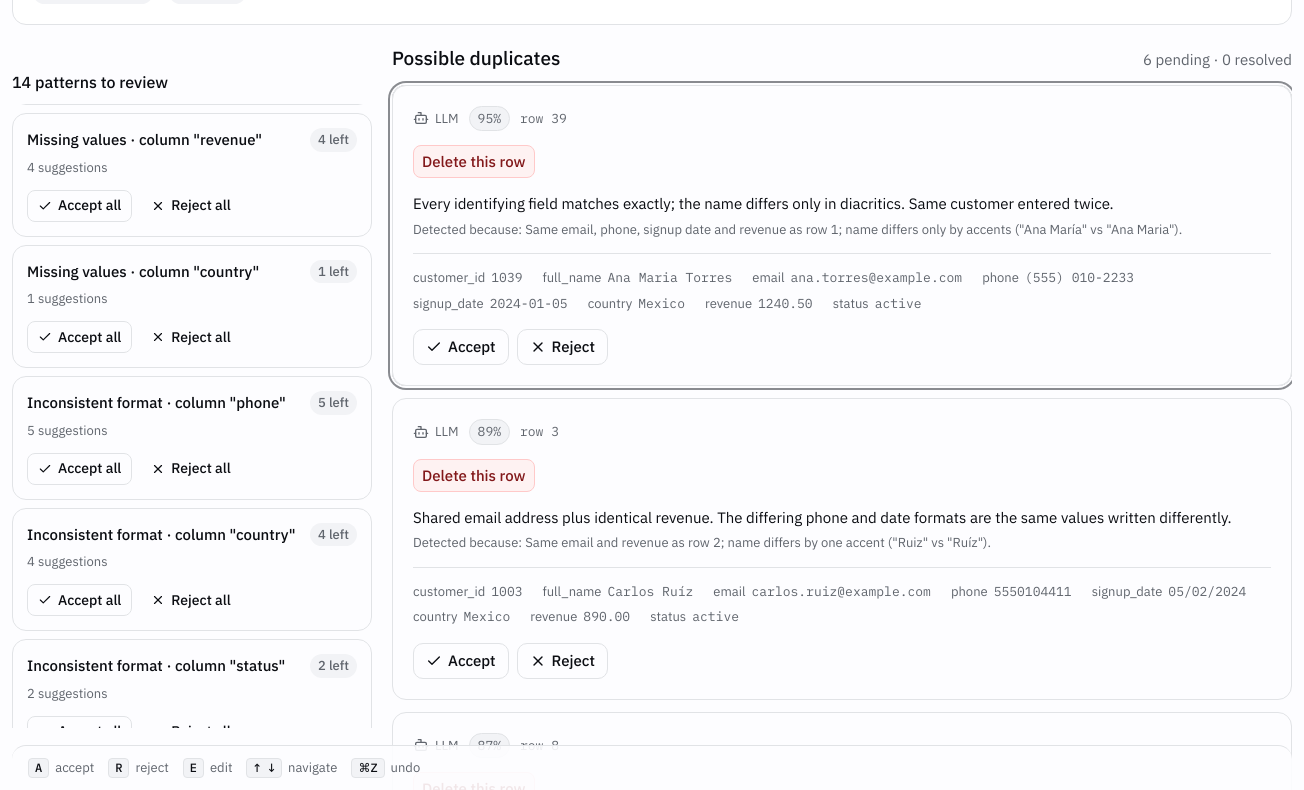
Test: ReviewWorkspace › lets the reviewer override a proposed value inline
(page scrolled)
Click the button "Inconsistent format · column \"phone\" 5 left 5 suggestions".
click(156, 402)  # box x1=27 y1=391 x2=357 y2=440
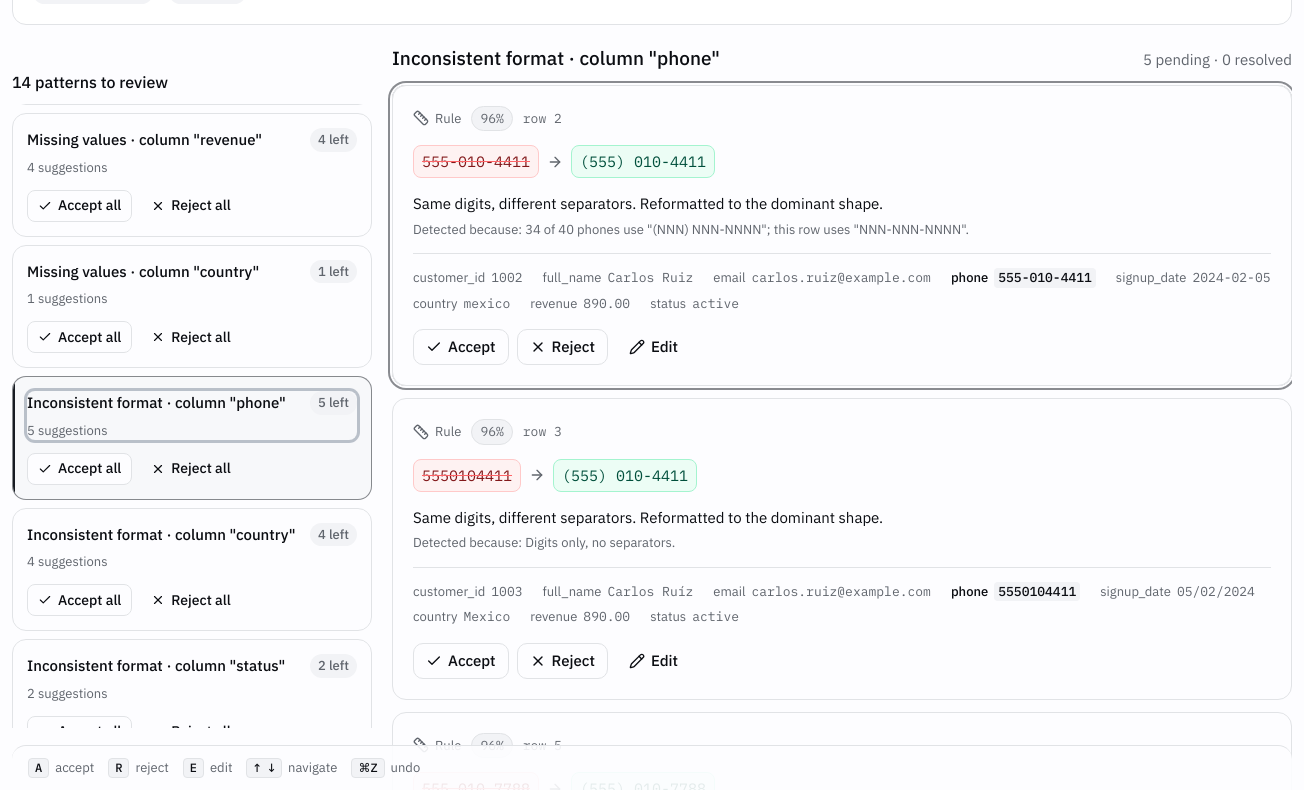
Type keys "e"
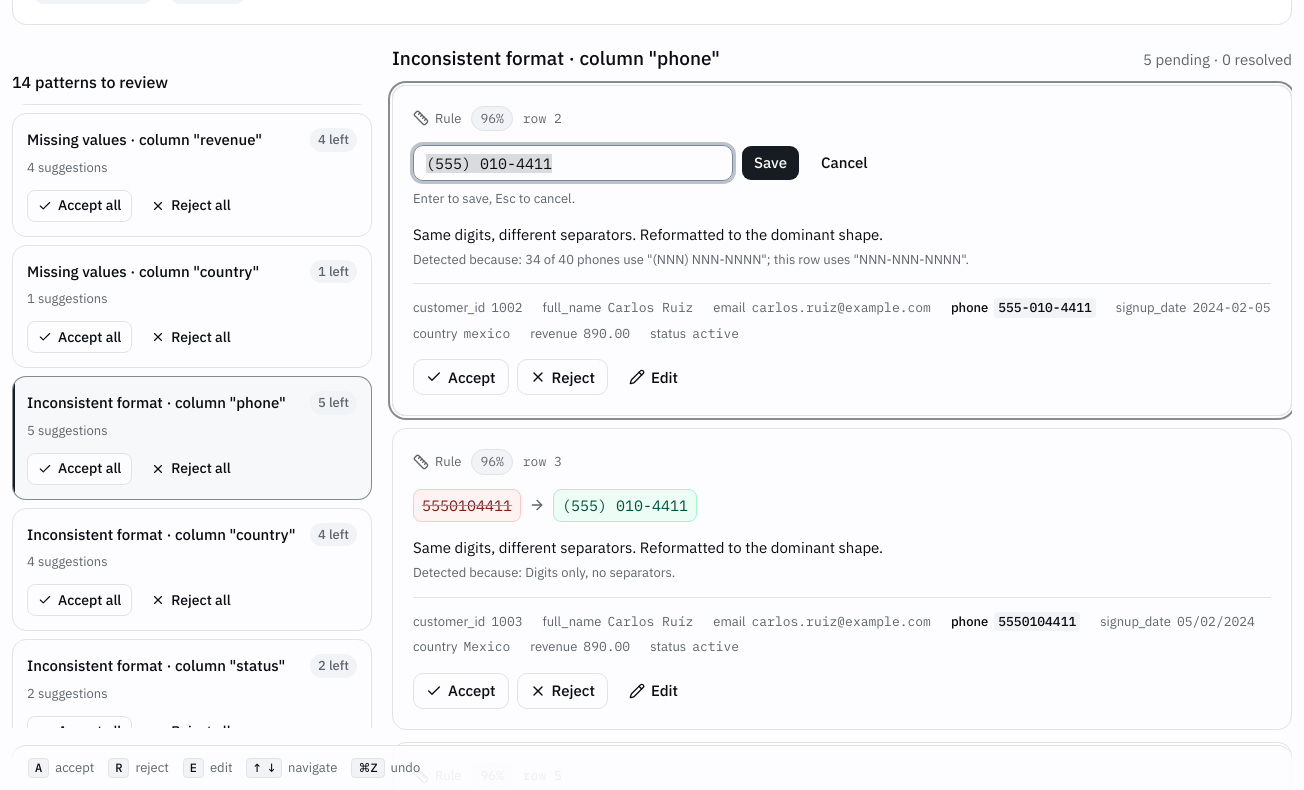
Replace the text in the field named "Override the proposed value" with "manual value" at (573, 163), box x1=413 y1=145 x2=733 y2=181
Then press Enter
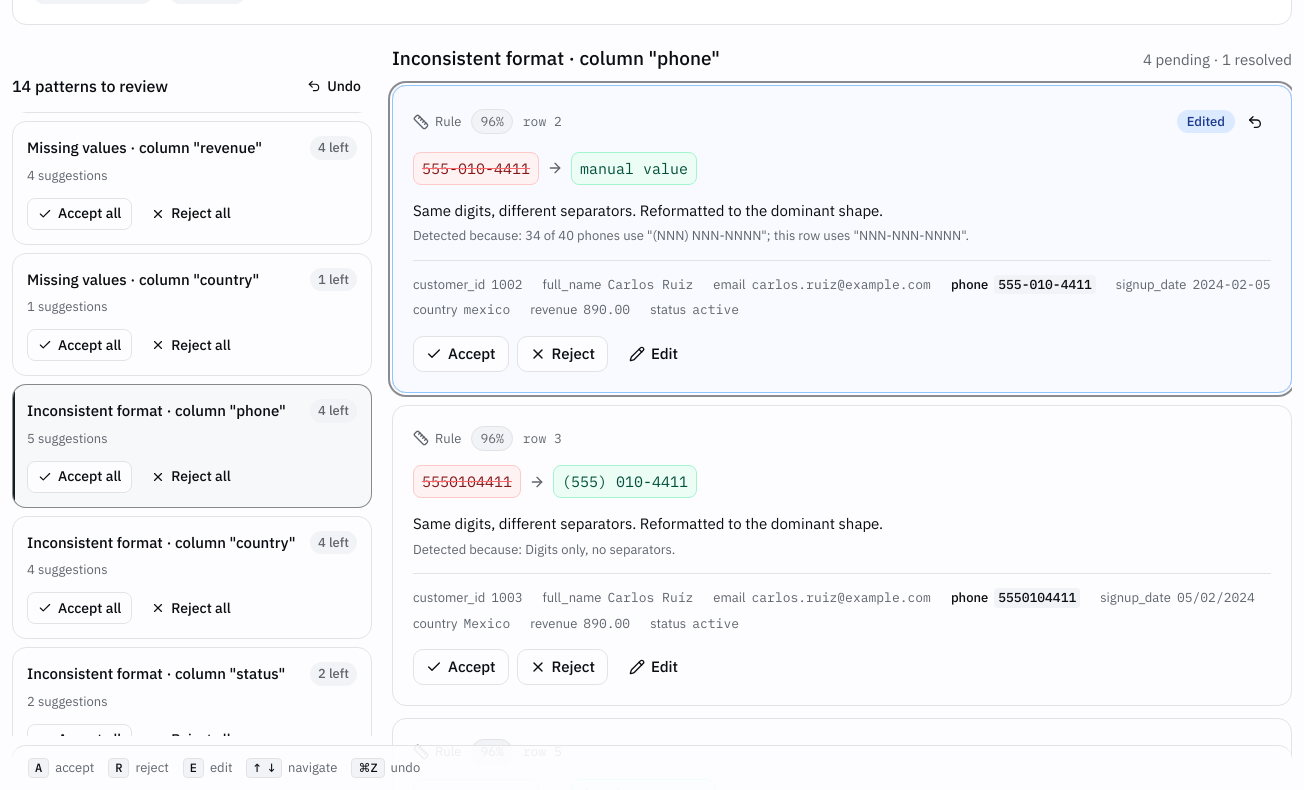
expect the text "Edited" is shown once: met, box x1=1177 y1=110 x2=1235 y2=133
expect the text titled "manual value" is shown: met, box x1=571 y1=152 x2=697 y2=185
